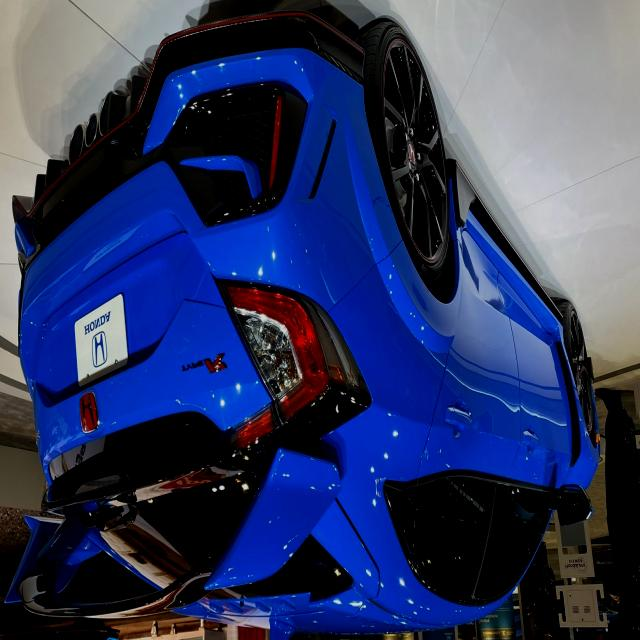blue: (0, 15, 598, 640)
